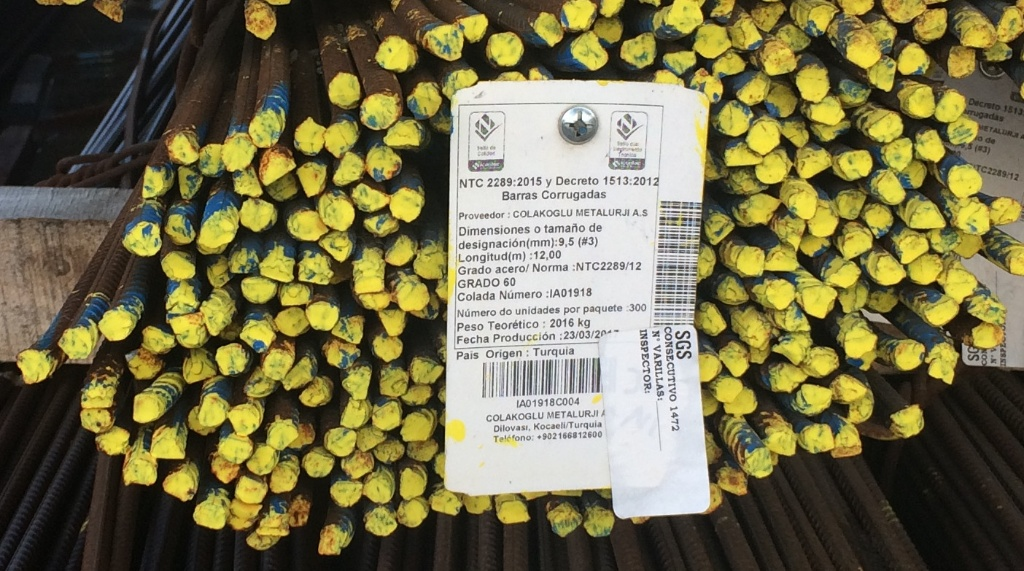dipstick: (729, 303, 773, 343), (374, 36, 417, 72), (571, 32, 610, 70), (938, 266, 979, 302), (954, 199, 993, 236), (864, 106, 904, 142), (486, 32, 524, 69), (360, 94, 399, 130), (236, 196, 275, 232), (166, 314, 208, 347), (404, 84, 442, 120), (121, 222, 160, 257), (288, 209, 329, 242), (425, 27, 467, 59), (384, 122, 427, 153), (800, 283, 836, 320), (260, 148, 296, 185), (844, 30, 879, 68), (926, 342, 961, 379), (802, 347, 841, 380), (795, 149, 832, 183), (164, 132, 201, 166), (411, 243, 445, 280), (945, 163, 983, 196), (242, 317, 275, 355), (323, 336, 361, 369), (798, 64, 830, 103), (162, 213, 197, 248), (777, 21, 813, 55), (198, 215, 234, 249), (690, 66, 723, 103), (390, 187, 423, 224), (297, 250, 334, 283), (548, 502, 581, 539), (238, 275, 278, 305), (156, 251, 197, 280), (731, 15, 764, 51), (327, 74, 363, 107), (322, 123, 358, 156), (296, 161, 329, 197), (15, 351, 51, 384), (696, 23, 733, 55), (619, 35, 656, 67), (350, 261, 387, 293), (910, 201, 948, 232), (260, 248, 294, 282), (875, 170, 910, 203), (161, 469, 196, 502), (889, 407, 925, 439), (773, 332, 809, 364), (718, 339, 750, 375), (771, 362, 808, 393), (560, 1, 598, 31), (869, 18, 898, 57), (917, 126, 946, 165), (294, 116, 323, 155), (908, 253, 942, 286), (221, 136, 254, 170), (329, 153, 363, 186), (321, 229, 354, 263), (215, 343, 248, 377), (806, 3, 838, 38), (365, 149, 400, 181), (340, 366, 372, 401), (765, 81, 796, 117), (456, 14, 492, 45), (323, 426, 359, 457), (123, 350, 160, 380), (260, 344, 290, 381), (921, 299, 959, 328), (967, 294, 1006, 322), (661, 49, 700, 77), (394, 278, 427, 311), (182, 349, 215, 382), (748, 120, 782, 152), (892, 337, 923, 372), (863, 204, 894, 239), (669, 1, 704, 32), (775, 303, 811, 333), (352, 183, 388, 213), (867, 56, 896, 93), (892, 230, 929, 259), (227, 169, 265, 197), (946, 44, 979, 76), (832, 372, 865, 404), (915, 7, 946, 41), (798, 383, 832, 414), (715, 464, 749, 495), (716, 274, 750, 305), (696, 303, 727, 337), (532, 11, 563, 45), (250, 114, 281, 148), (376, 363, 407, 397), (317, 525, 348, 559), (363, 213, 402, 240), (308, 299, 338, 334), (131, 392, 166, 422), (754, 155, 790, 184), (961, 21, 998, 49), (140, 164, 168, 201), (808, 97, 846, 124), (738, 72, 769, 105), (763, 43, 796, 74), (196, 145, 229, 176), (276, 306, 309, 337), (703, 213, 733, 247), (883, 136, 912, 171), (800, 424, 835, 453), (98, 312, 133, 341), (142, 325, 177, 354), (207, 453, 242, 482), (328, 478, 363, 507), (802, 228, 833, 260), (325, 198, 356, 230), (905, 86, 935, 119), (867, 284, 900, 314), (834, 187, 864, 220), (844, 322, 877, 352), (744, 192, 774, 225), (369, 331, 402, 361), (398, 466, 428, 499), (584, 506, 614, 539), (807, 120, 850, 143), (933, 91, 967, 120), (764, 430, 798, 459), (809, 201, 838, 235), (166, 284, 200, 313), (340, 451, 374, 480), (702, 150, 731, 184), (190, 501, 225, 529), (217, 434, 253, 461), (731, 167, 767, 194), (879, 1, 925, 22), (719, 103, 750, 134), (247, 446, 278, 477), (303, 447, 334, 478), (785, 189, 817, 219), (754, 1, 786, 31), (245, 8, 275, 40), (176, 166, 206, 198), (384, 236, 416, 266), (123, 459, 155, 489), (363, 507, 395, 537), (736, 245, 765, 278), (280, 280, 313, 309), (152, 433, 186, 461), (725, 141, 763, 166), (744, 451, 779, 478), (997, 3, 1023, 39), (690, 246, 716, 282), (991, 197, 1021, 228), (831, 428, 862, 458), (333, 315, 363, 346), (946, 116, 978, 145), (245, 369, 277, 398), (340, 397, 372, 426), (227, 405, 259, 434), (444, 71, 477, 99), (410, 357, 443, 385), (498, 498, 531, 526), (852, 384, 875, 424), (970, 322, 1004, 349), (839, 151, 873, 178), (377, 308, 411, 335), (898, 45, 929, 74), (875, 256, 906, 285), (594, 14, 625, 43), (375, 436, 404, 467), (396, 499, 427, 528), (828, 260, 860, 288), (768, 247, 800, 275), (269, 173, 301, 201), (64, 328, 90, 362), (761, 280, 796, 305), (285, 359, 315, 388), (260, 512, 290, 541), (899, 159, 927, 190), (298, 380, 329, 408), (353, 425, 384, 453), (200, 259, 232, 286), (844, 347, 881, 370), (200, 299, 223, 336), (80, 384, 117, 407), (92, 430, 129, 453), (232, 246, 261, 275), (954, 232, 985, 259), (725, 389, 756, 416), (200, 393, 227, 424), (430, 489, 461, 516), (187, 407, 215, 436), (266, 420, 294, 449), (839, 78, 869, 105), (325, 259, 352, 289), (838, 286, 869, 312), (776, 214, 802, 245), (778, 120, 809, 146), (402, 413, 433, 439), (235, 475, 267, 500), (354, 292, 392, 313), (702, 431, 723, 469), (929, 226, 956, 255), (715, 51, 744, 78), (372, 401, 401, 428), (713, 376, 744, 401), (286, 497, 311, 528), (80, 411, 115, 433), (406, 438, 438, 462), (696, 351, 719, 384), (402, 386, 435, 409), (271, 466, 298, 494), (367, 475, 390, 507), (748, 339, 774, 367), (700, 387, 722, 420), (464, 493, 492, 518), (415, 293, 439, 322), (983, 41, 1013, 64), (288, 428, 317, 451), (1006, 247, 1024, 273)
